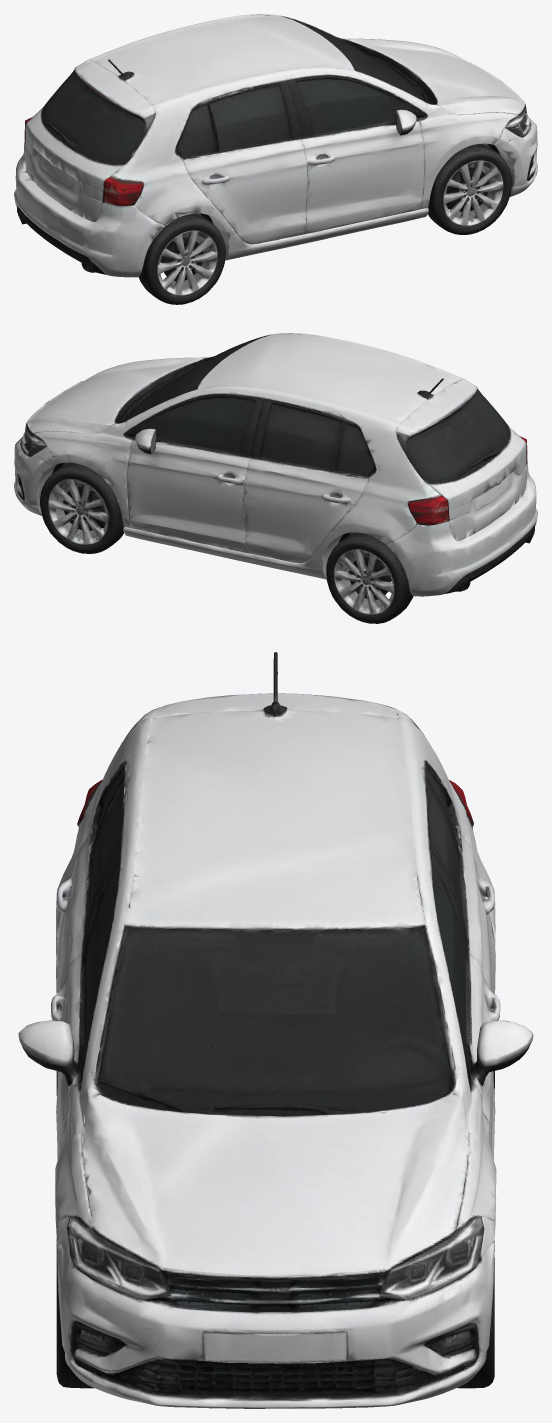
Rendered from veh_klein.glb.
3 views of the same model, one above another, from view 1: azimuth 30°, elevation 25°; view 2: azimuth 150°, elevation 25°; view 3: azimuth 270°, elevation 25° (orthographic). The views are drawn at different scales.
Visible parts, largest first — view 1: tripo_node_564a48ce-5066-41a3-95d4-32cd62637eb1; view 2: tripo_node_564a48ce-5066-41a3-95d4-32cd62637eb1; view 3: tripo_node_564a48ce-5066-41a3-95d4-32cd62637eb1.
Boxes of the visible parts, x1,y1,x2,y2 form: tripo_node_564a48ce-5066-41a3-95d4-32cd62637eb1: (14, 14, 537, 304); tripo_node_564a48ce-5066-41a3-95d4-32cd62637eb1: (14, 333, 537, 623); tripo_node_564a48ce-5066-41a3-95d4-32cd62637eb1: (18, 652, 533, 1408).
Size of the model in its own units: 0.98 by 0.4239 by 0.4667.
1 material, 1 textured.
